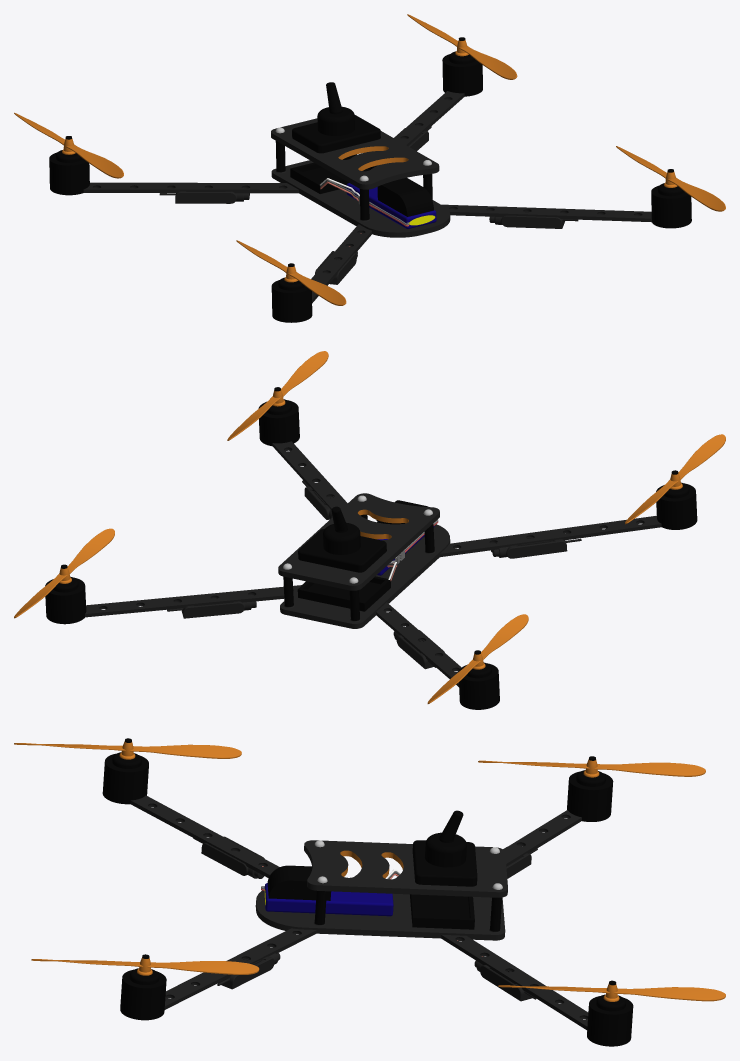
The model's file is quad_2.glb.
The picture shows the model from 3 angles, top to bottom: view 1: azimuth 30°, elevation 25°; view 2: azimuth 150°, elevation 25°; view 3: azimuth 270°, elevation 25°; orthographic projection. The views are drawn at different scales.
Visible parts, largest first — view 1: Body2, Body1 (×6), Body81, Body59, Body55, Body57, Body77, Body62, Body76, Body74, Body3; view 2: Body2, Body1 (×6), Body81, Body76, Body57, Body62, Body55, Body59, Body75; view 3: Body1 (×7), Body2, Body81, Body76, Body59, Body62, Body55, Body57, Body77, Body75, Body3.
Boxes of the visible parts, x1,y1,x2,y2 form: Body2: [83, 91, 651, 303]; Body1 (×6): [14, 14, 725, 305]; Body81: [292, 106, 380, 153]; Body59: [651, 169, 691, 228]; Body55: [271, 263, 312, 322]; Body57: [49, 136, 89, 195]; Body77: [377, 177, 433, 216]; Body62: [442, 37, 482, 96]; Body76: [290, 154, 376, 193]; Body74: [159, 187, 249, 203]; Body3: [489, 211, 578, 228]; Body2: [85, 441, 661, 686]; Body1 (×6): [14, 351, 725, 703]; Body81: [298, 522, 386, 572]; Body76: [297, 576, 390, 611]; Body57: [458, 650, 499, 709]; Body62: [45, 564, 86, 624]; Body55: [656, 470, 697, 529]; Body59: [258, 387, 299, 446]; Body75: [167, 594, 256, 618]; Body1 (×7): [14, 741, 725, 1001]; Body2: [130, 795, 588, 1030]; Body81: [412, 832, 477, 886]; Body76: [410, 894, 474, 929]; Body59: [120, 954, 166, 1020]; Body62: [587, 980, 633, 1046]; Body55: [102, 738, 148, 804]; Body57: [567, 756, 613, 821]; Body77: [267, 865, 331, 900]; Body75: [457, 940, 536, 1001]; Body3: [217, 953, 280, 989].
Size of the model in its own units: 1353 by 327 by 1722.
